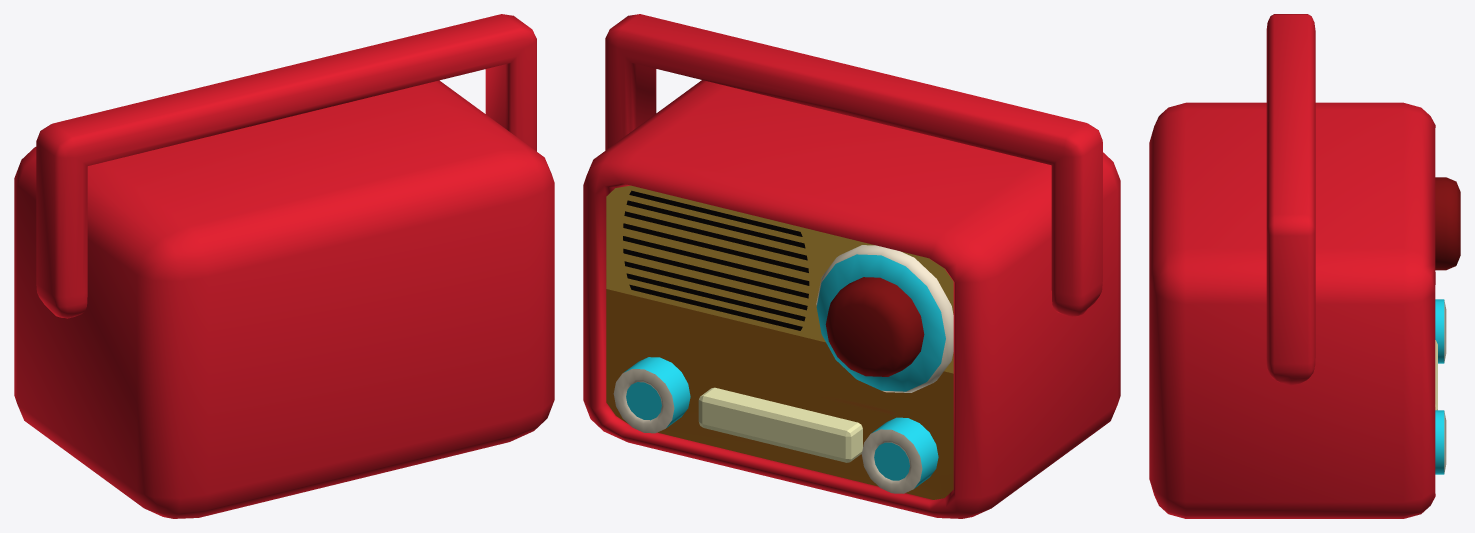
The model's file is Radio.fbx.
3 views of the same model, side by side, from view 1: azimuth 30°, elevation 25°; view 2: azimuth 150°, elevation 25°; view 3: azimuth 270°, elevation 25° (orthographic). The views are drawn at different scales.
Visible parts, largest first — view 1: Radio; view 2: Radio, Knob1, Knob2, Knob3; view 3: Radio, Knob1, Knob3, Knob2.
Part boxes in pixels (left/top/right/bottom): Radio: left=14, top=14, right=554, bottom=518; Radio: left=583, top=14, right=1120, bottom=518; Knob1: left=816, top=245, right=953, bottom=392; Knob2: left=861, top=417, right=938, bottom=493; Knob3: left=613, top=357, right=690, bottom=433; Radio: left=1149, top=14, right=1437, bottom=518; Knob1: left=1435, top=177, right=1460, bottom=270; Knob3: left=1435, top=410, right=1446, bottom=474; Knob2: left=1435, top=299, right=1446, bottom=363.
Bounding box in the file's own units: 314 × 224 × 193.
Materials: 1 (1 with a texture image).
